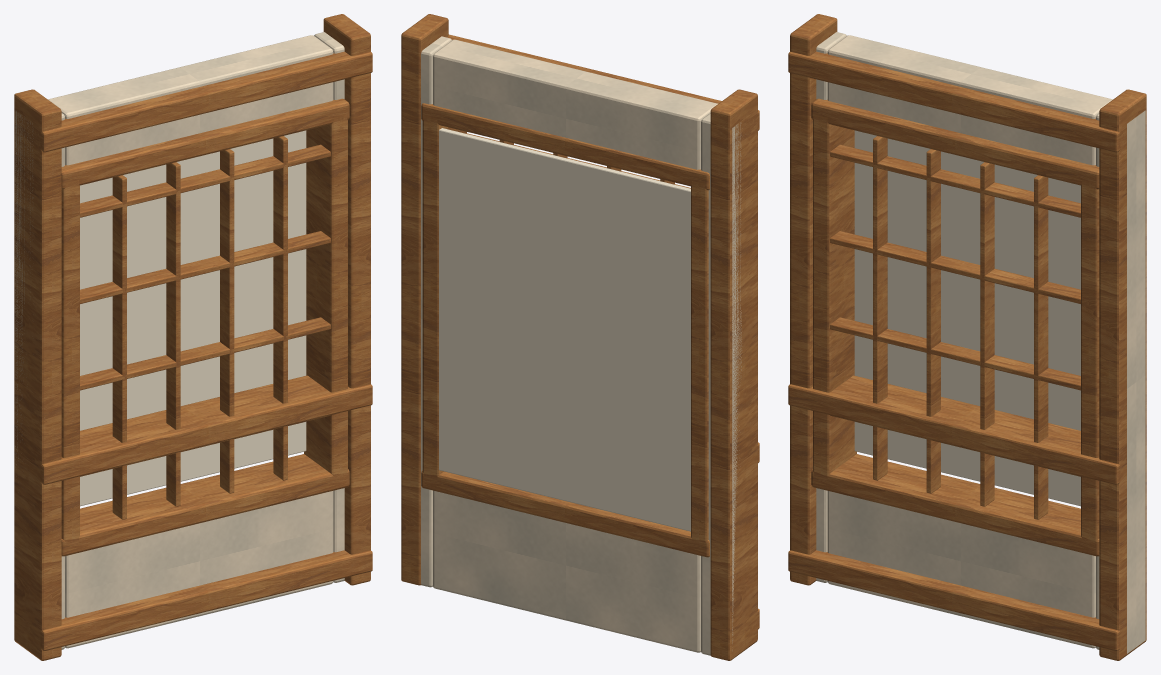
Rendered from WC_CAFE_Wall_Window_A.glb.
3 renders of one model, left to right at view 1: azimuth 30°, elevation 25°; view 2: azimuth 150°, elevation 25°; view 3: azimuth 330°, elevation 25°, orthographic.
Parts seen in each view (by area): view 1: WC_CAFE_Wall_Window_A_RenderMesh; view 2: WC_CAFE_Wall_Window_A_RenderMesh; view 3: WC_CAFE_Wall_Window_A_RenderMesh.
Boxes of the visible parts, x1,y1,x2,y2 form: WC_CAFE_Wall_Window_A_RenderMesh: [14, 14, 372, 660]; WC_CAFE_Wall_Window_A_RenderMesh: [401, 14, 759, 660]; WC_CAFE_Wall_Window_A_RenderMesh: [788, 14, 1146, 660].
Bounding box in the file's own units: 1.6 × 2.54 × 0.26.
Materials: 5 (4 with a texture image).
